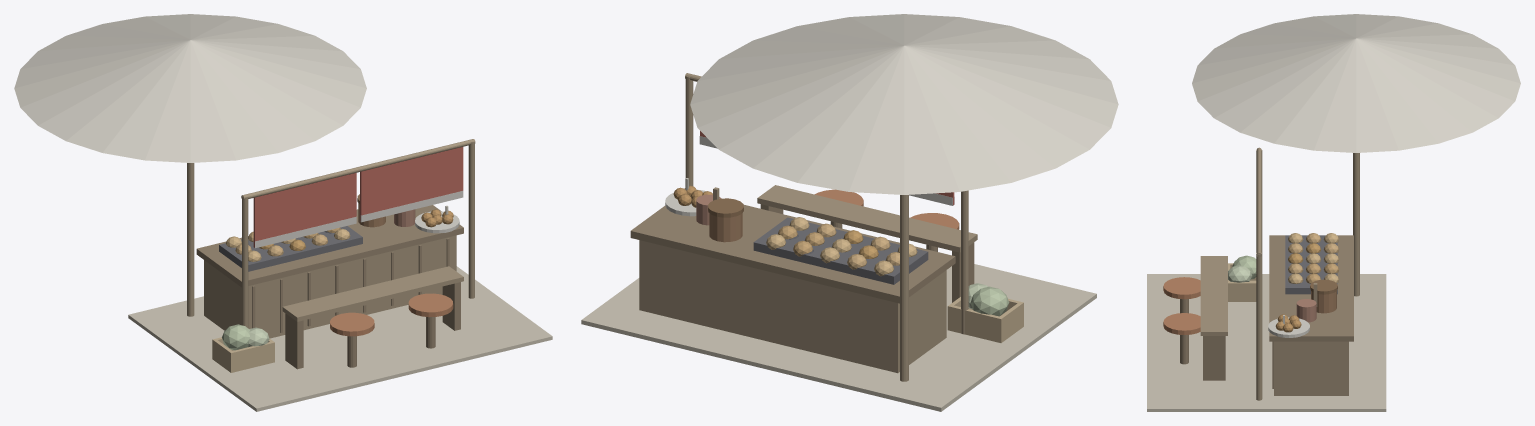
The model's file is stall-takoyaki.glb.
3 renders of one model, left to right at view 1: azimuth 30°, elevation 25°; view 2: azimuth 150°, elevation 25°; view 3: azimuth 270°, elevation 25°, orthographic. The views are drawn at different scales.
Parts seen in each view (by area): view 1: part_22, part_18, part_06, part_11, part_03, part_01, part_08, part_20, part_16, part_10, part_17; view 2: part_22, part_06, part_18, part_03, part_01, part_16, part_17, part_08, part_10, part_04, part_15, part_14 (+1 smaller); view 3: part_22, part_18, part_06, part_03, part_08, part_01, part_17, part_16, part_15, part_21, part_07, part_04 (+3 smaller).
Part boxes in pixels (x1,y1,x2,y2): part_22: [14, 14, 366, 162]; part_18: [128, 266, 552, 411]; part_06: [187, 139, 475, 338]; part_11: [253, 147, 463, 247]; part_03: [196, 205, 463, 369]; part_01: [219, 226, 362, 271]; part_08: [330, 293, 453, 336]; part_20: [254, 191, 463, 248]; part_16: [212, 337, 274, 372]; part_10: [222, 324, 249, 350]; part_17: [226, 228, 350, 261]; part_22: [690, 14, 1118, 194]; part_06: [639, 73, 977, 381]; part_18: [581, 264, 1096, 411]; part_03: [630, 204, 974, 303]; part_01: [753, 217, 928, 284]; part_16: [947, 297, 1023, 342]; part_17: [766, 217, 917, 276]; part_08: [814, 189, 959, 229]; part_10: [970, 286, 1009, 316]; part_04: [709, 213, 742, 242]; part_15: [816, 223, 899, 269]; part_14: [778, 225, 824, 256]; part_22: [1192, 14, 1520, 152]; part_18: [1147, 274, 1386, 411]; part_06: [1200, 147, 1359, 400]; part_03: [1180, 235, 1353, 388]; part_08: [1163, 277, 1200, 334]; part_01: [1285, 235, 1337, 294]; part_17: [1288, 233, 1338, 283]; part_16: [1228, 263, 1256, 301]; part_15: [1288, 233, 1338, 273]; part_21: [1268, 317, 1309, 337]; part_07: [1296, 299, 1316, 322]; part_04: [1311, 291, 1336, 313].
Bounding box in the file's own units: 8.7 × 5.75 × 7.5.
